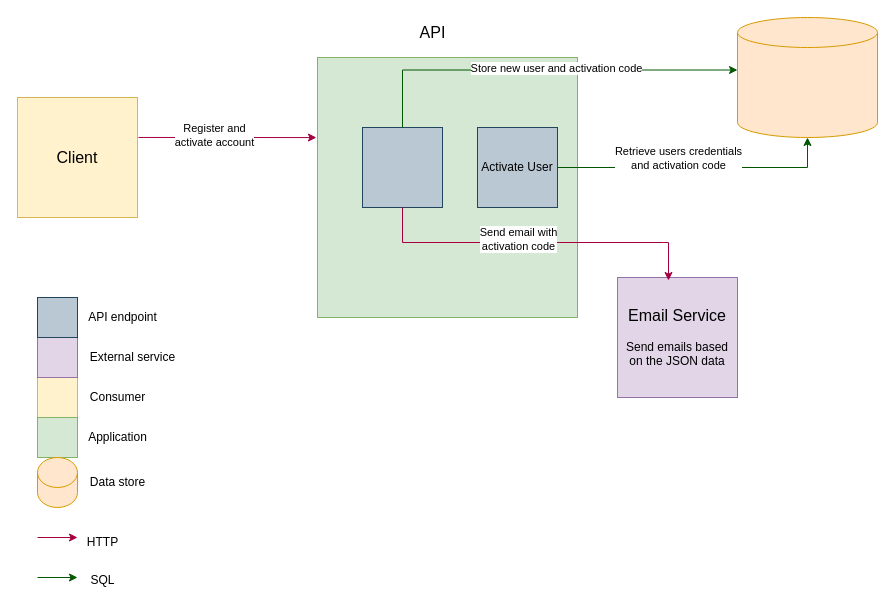
The diagram is 895 pixels wide and 613 high, and some of its shapes have lost their labels. Here are the shapes that lost their labels. From the top down, the centre of each, then its label:
At point (807, 77): "DB (users, activation codes)".
At point (402, 167): "Register User".
